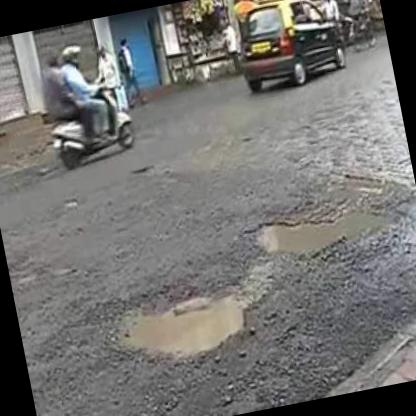pothole: (107, 272, 256, 365), (242, 190, 408, 262)
